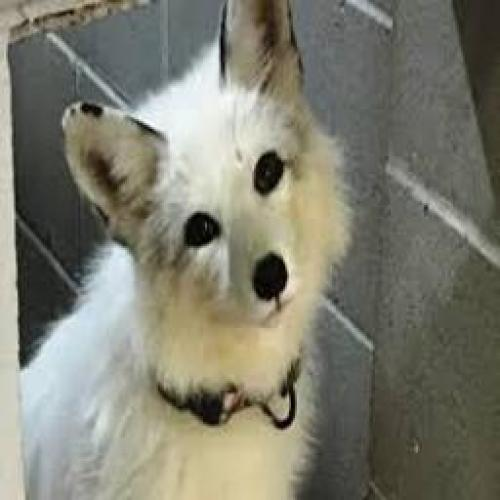arctic_fox-endangered: (28, 0, 348, 500)
